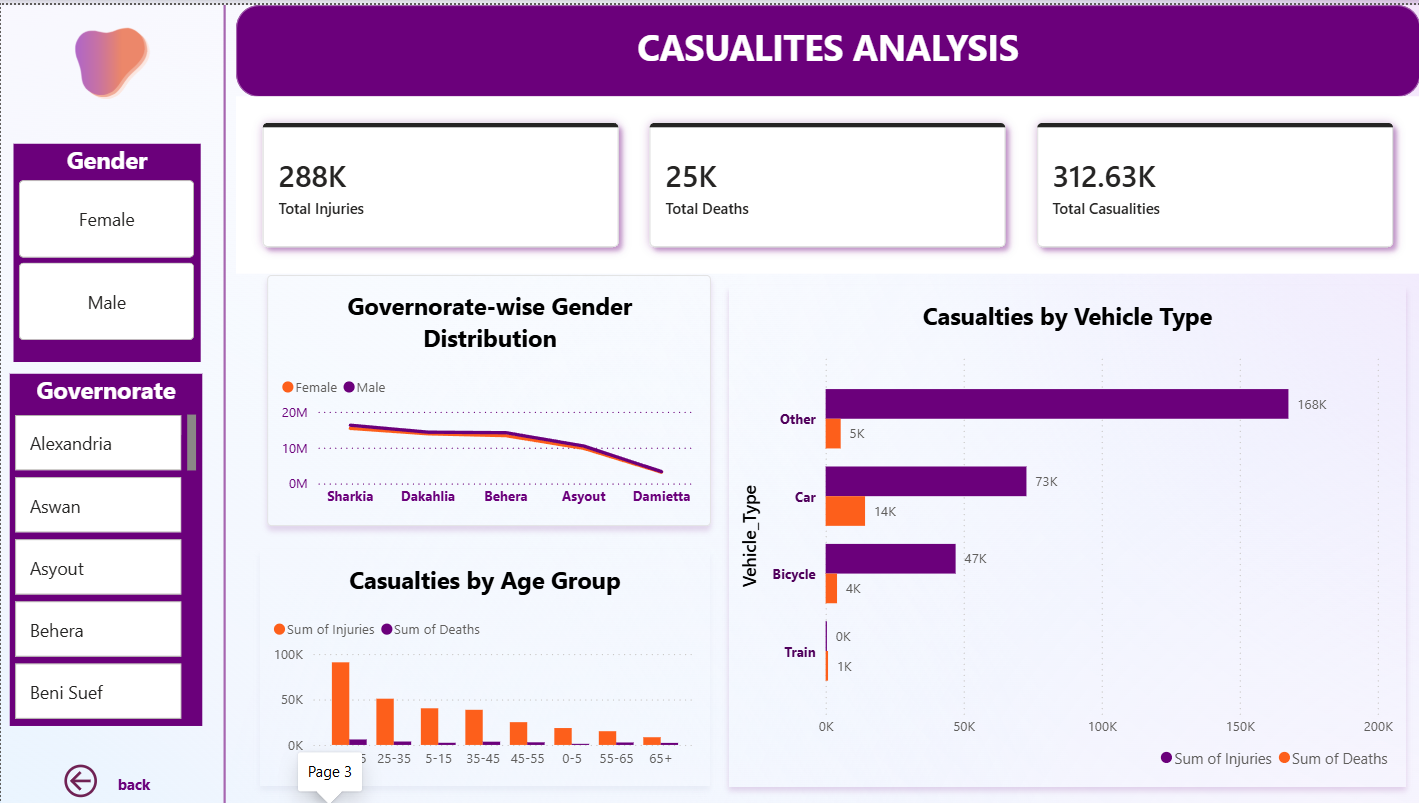

Layout of this report page (visuals, bound fields, positions):
{"tool":"powerbi","page":{"name":"Page 3","canvas":[1280,720],"ordinal":3},"visuals":[{"type":"shape","box":[211.7,0,1068,83],"z":0},{"type":"textbox","box":[442.1,11.5,607.7,331.2],"z":1000},{"type":"shape","box":[51.4,0,299.6,720.2],"z":2000},{"type":"image","box":[0,0,212,115],"z":3000},{"type":"actionButton","box":[51.4,679.9,100,40],"z":4000},{"type":"actionButton","box":[0,0,201.8,101.5],"z":5000},{"type":"textbox","box":[100.3,688.2,68.5,31.8],"z":6000},{"type":"cardVisual","fields":{"Data":["Sum(T_Fact_RoadUser.Injuries)","Sum(T_Fact_RoadUser.Deaths)","select"]},"box":[212.4,82.7,1067.6,160.5],"z":7000},{"type":"lineChart","title":"Governorate-wise Gender Distribution","fields":{"Category":["T_Dim_Governorate.Governorate"],"Series":["T_Dim_Gender.Gender"],"Y":["Sum(T_Fact_Population.Population)"]},"box":[239.7,243.3,399.9,226.2],"z":8000},{"type":"clusteredColumnChart","title":"Casualties by Age Group","fields":{"Category":["T_Dim_Age.Age_Group"],"Y":["Sum(T_Fact_Age.Injuries)","Sum(T_Fact_Age.Deaths)"]},"box":[233.6,491.6,406,212.8],"z":9000},{"type":"clusteredBarChart","title":"Casualties by Vehicle Type","fields":{"Category":["T_Dim_Vehicle.Vehicle_Type"],"Y":["Sum(T_Fact_Vehicle.Injuries)","Sum(T_Fact_Vehicle.Deaths)"]},"box":[655.4,253.1,611.4,451.2],"z":10000},{"type":"advancedSlicerVisual","fields":{"Values":["T_Dim_Gender.Gender"]},"box":[11.5,125.3,168.8,196.9],"z":11000},{"type":"advancedSlicerVisual","fields":{"Values":["T_Dim_Governorate.Governorate"]},"box":[7.3,332.6,173.6,317.9],"z":12000}]}

Visuals, with their boxes in screenshot pixels (x1, y1, x2, y2), scaled from the page's 1280x720 canvas onto the 1419x803 screenshot:
shape: Rect(235, 0, 1418, 93)
textbox: Rect(490, 13, 1164, 382)
shape: Rect(57, 0, 389, 802)
image: Rect(0, 0, 235, 128)
actionButton: Rect(57, 758, 168, 802)
actionButton: Rect(0, 0, 224, 113)
textbox: Rect(111, 768, 187, 802)
cardVisual - Sum(T_Fact_RoadUser.Injuries) x Sum(T_Fact_RoadUser.Deaths): Rect(235, 92, 1418, 271)
"Governorate-wise Gender Distribution" lineChart: Rect(266, 271, 709, 524)
"Casualties by Age Group" clusteredColumnChart: Rect(259, 548, 709, 786)
"Casualties by Vehicle Type" clusteredBarChart: Rect(727, 282, 1404, 785)
advancedSlicerVisual - T_Dim_Gender.Gender: Rect(13, 140, 200, 359)
advancedSlicerVisual - T_Dim_Governorate.Governorate: Rect(8, 371, 201, 725)
